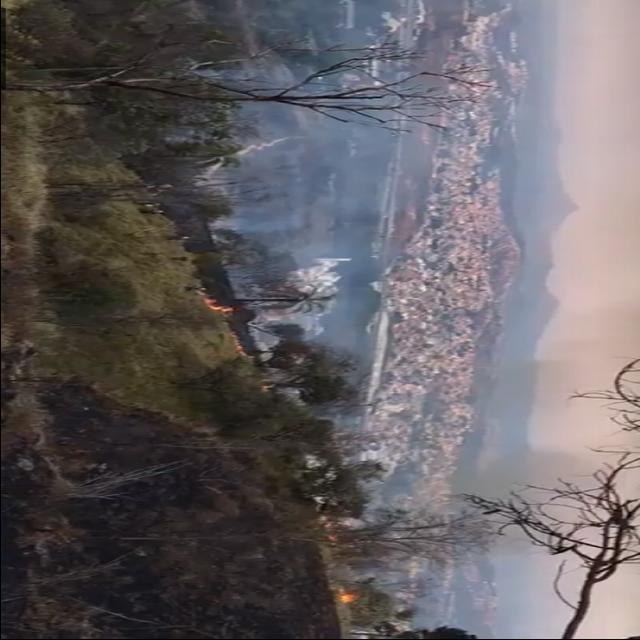Fire: (206, 298, 237, 312), (341, 592, 363, 604)
